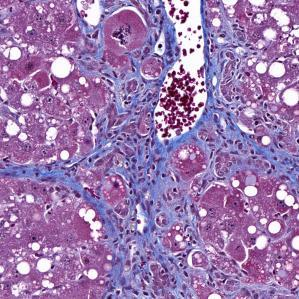fibrosis: (95, 124, 226, 217), (114, 228, 245, 294), (208, 98, 299, 171), (96, 58, 159, 112)
